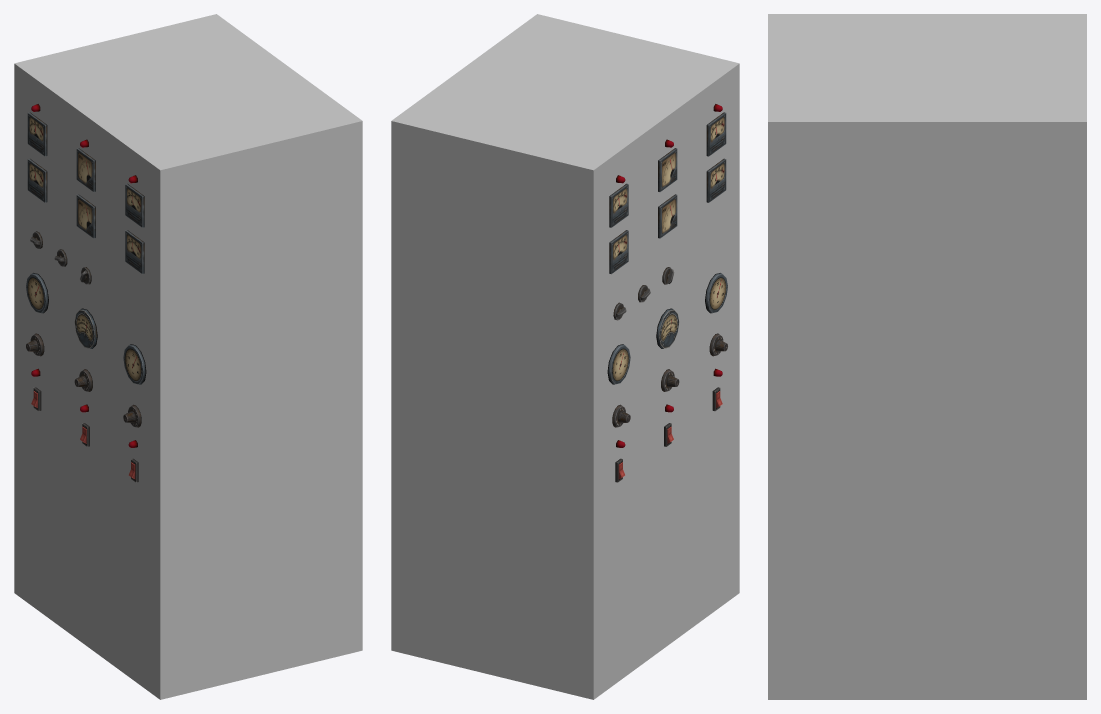
Rendered from auxPanel01_A.FBX.
3 views of the same model, side by side, from view 1: azimuth 30°, elevation 25°; view 2: azimuth 150°, elevation 25°; view 3: azimuth 270°, elevation 25° (orthographic). The views are drawn at different scales.
Parts seen in each view (by area): view 1: auxPanel01_A, ctrlPanel_gauges; view 2: auxPanel01_A, ctrlPanel_gauges; view 3: auxPanel01_A.
Part boxes in pixels (box(x1,y1,x2,y2)): auxPanel01_A: box(14, 14, 362, 699); ctrlPanel_gauges: box(26, 112, 146, 384); auxPanel01_A: box(391, 14, 739, 699); ctrlPanel_gauges: box(607, 112, 727, 384); auxPanel01_A: box(768, 14, 1086, 699).
Size of the model in its own units: 84.21 by 200 by 100.
